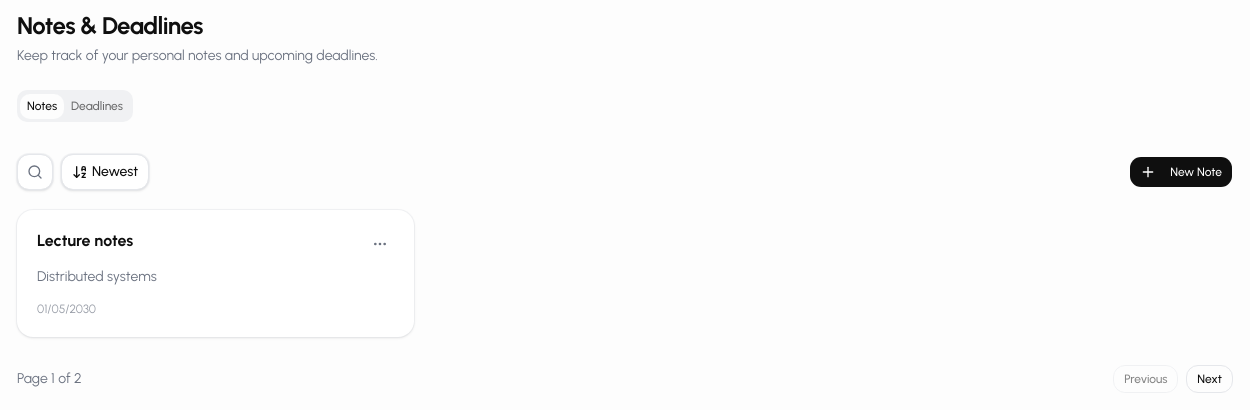
notes and deadlines route › fetches the next page of notes
Expected: the text "Page 1 of 2" is shown, top-left (17, 369), bottom-right (82, 389)
Click the button "Next" at (1210, 379), box top-left (1186, 365), bottom-right (1233, 393)
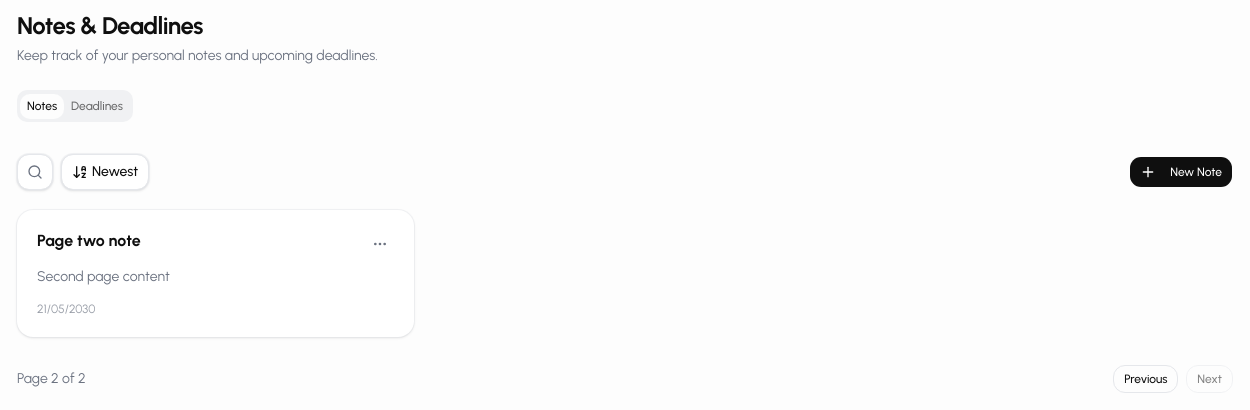
Expected: the text "Page 2 of 2" is shown, top-left (17, 369), bottom-right (86, 389)
Expected: the heading "Page two note" is shown, top-left (37, 230), bottom-right (141, 252)
